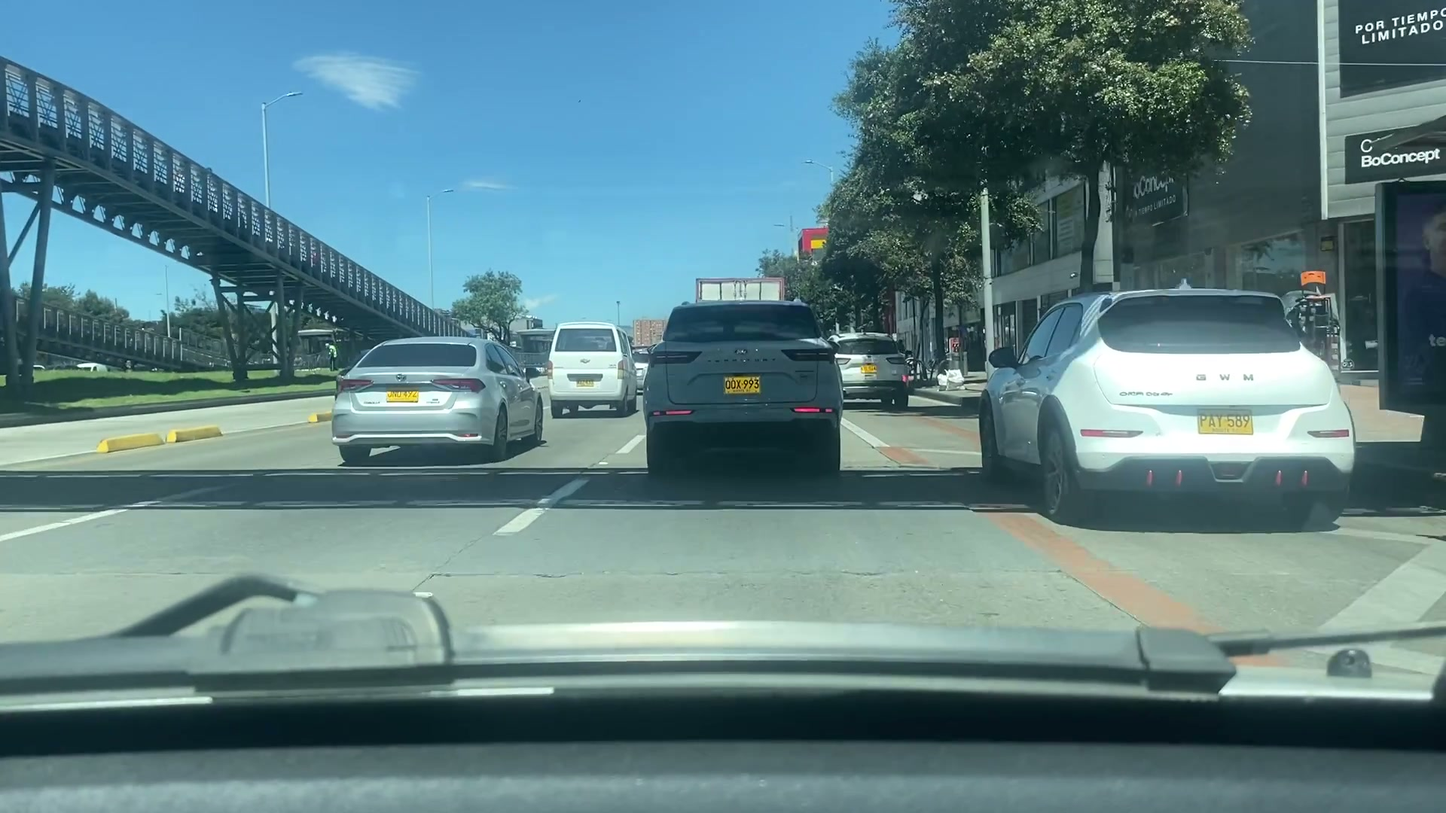bus: (548, 317, 642, 422)
car: (973, 277, 1362, 525), (648, 300, 842, 475), (330, 336, 550, 454), (825, 333, 911, 414)
